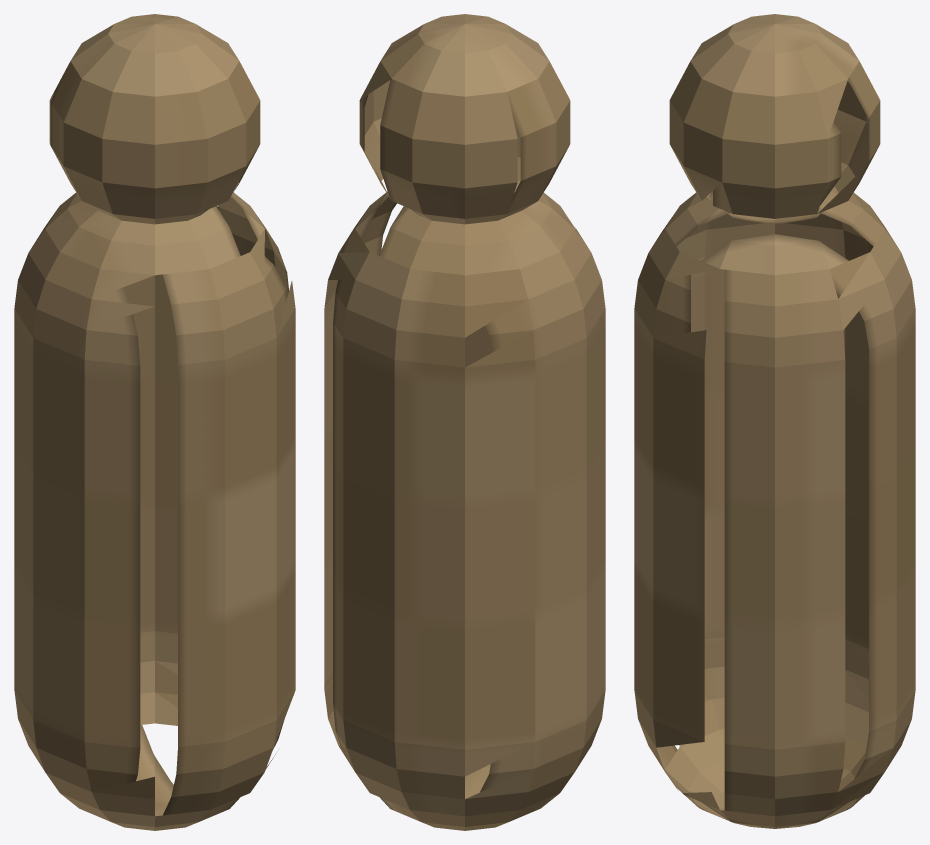
The model's file is monos_portal_figure.obj.
The picture shows the model from 3 angles, left to right: view 1: azimuth 30°, elevation 25°; view 2: azimuth 150°, elevation 25°; view 3: azimuth 270°, elevation 25°; orthographic projection.
Bounding box in the file's own units: 0.52 × 1.62 × 0.52.
Materials: 1 (1 with a texture image).
